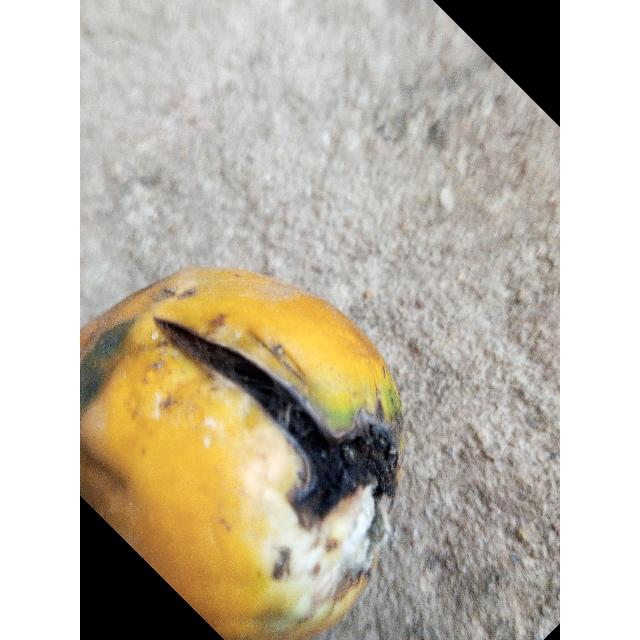damaged: (80, 268, 403, 640)
